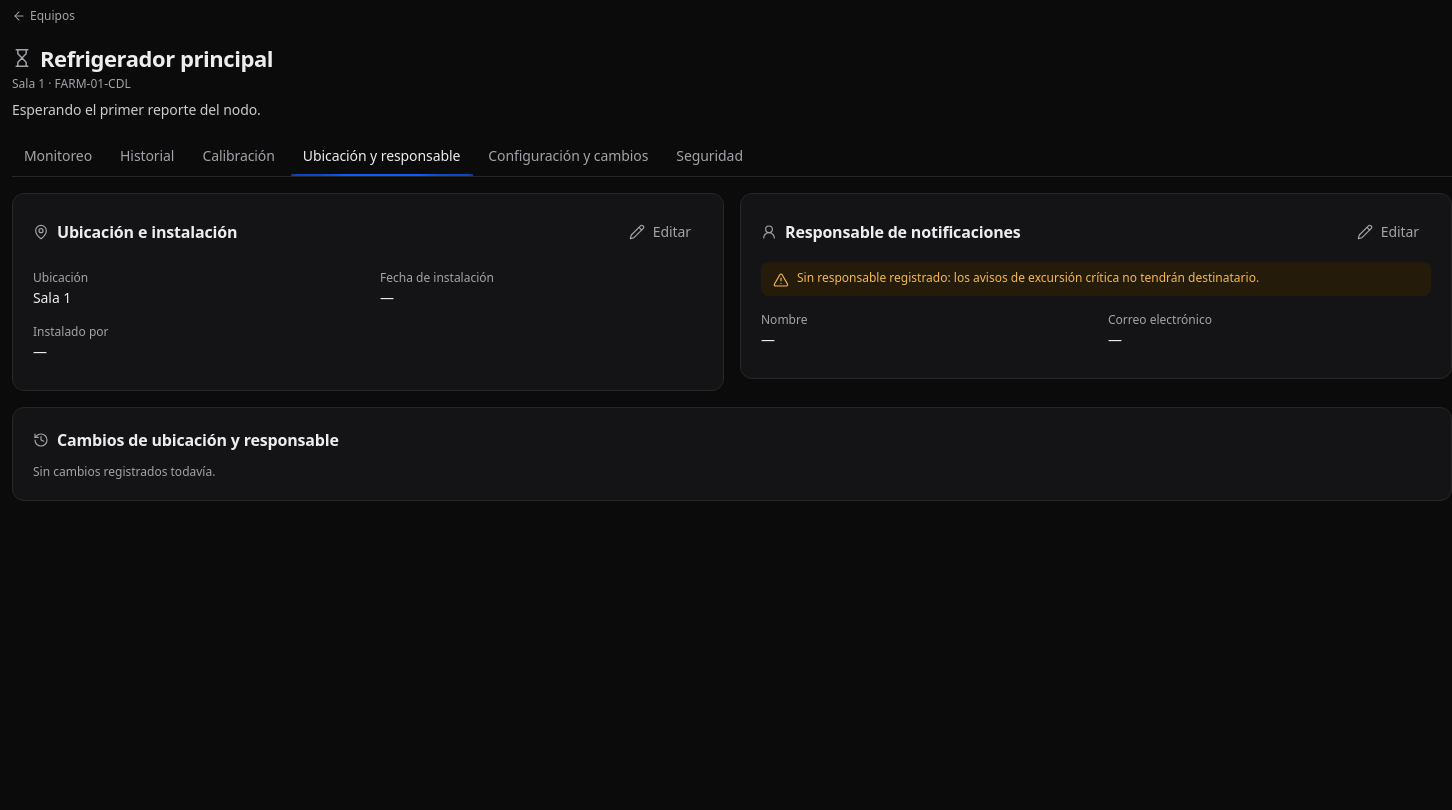
Test: Detalle de dispositivo (pestañas) › HU-51: editar ubicación guarda y anuncia el resultado
Click the button with aria-label "Editar ubicación de FARM-01-CDL". click: [660, 232]
box: [617,214,703,250]
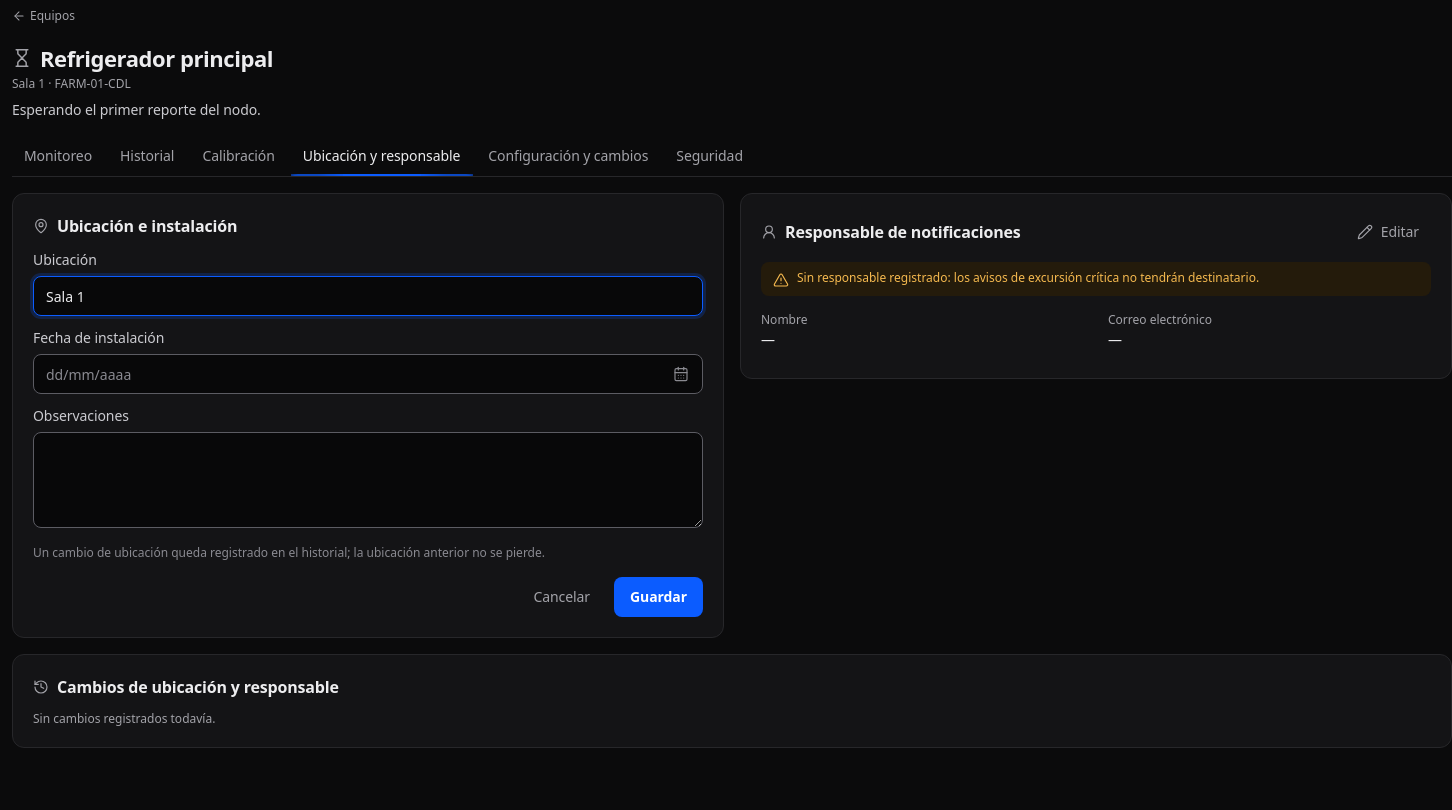
Replace the text in the field labelled "Ubicación" with "Almacén QA". click: [368, 296]
box: [33,276,703,316]
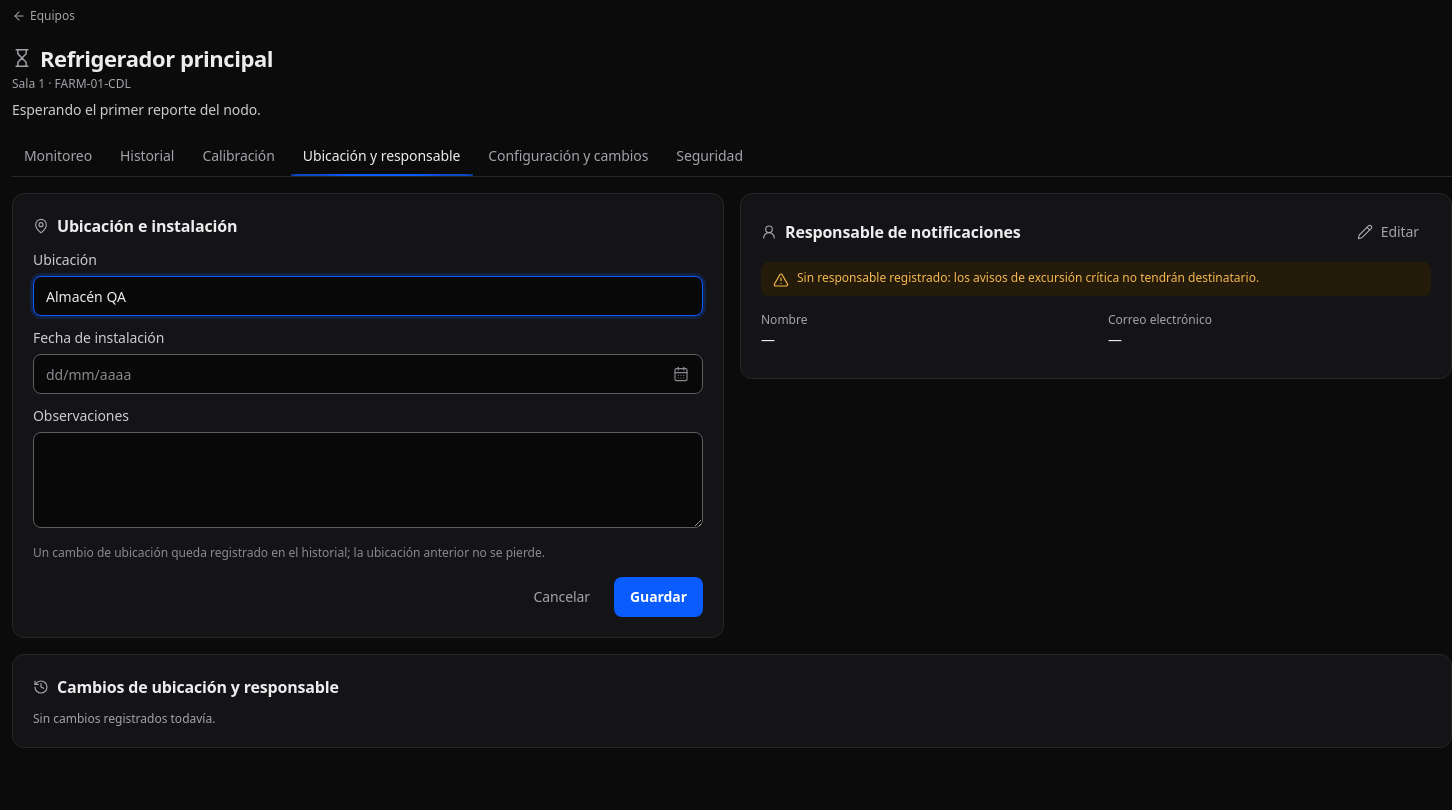
Click the button "Guardar". click: [658, 597]
box: [614,577,703,617]
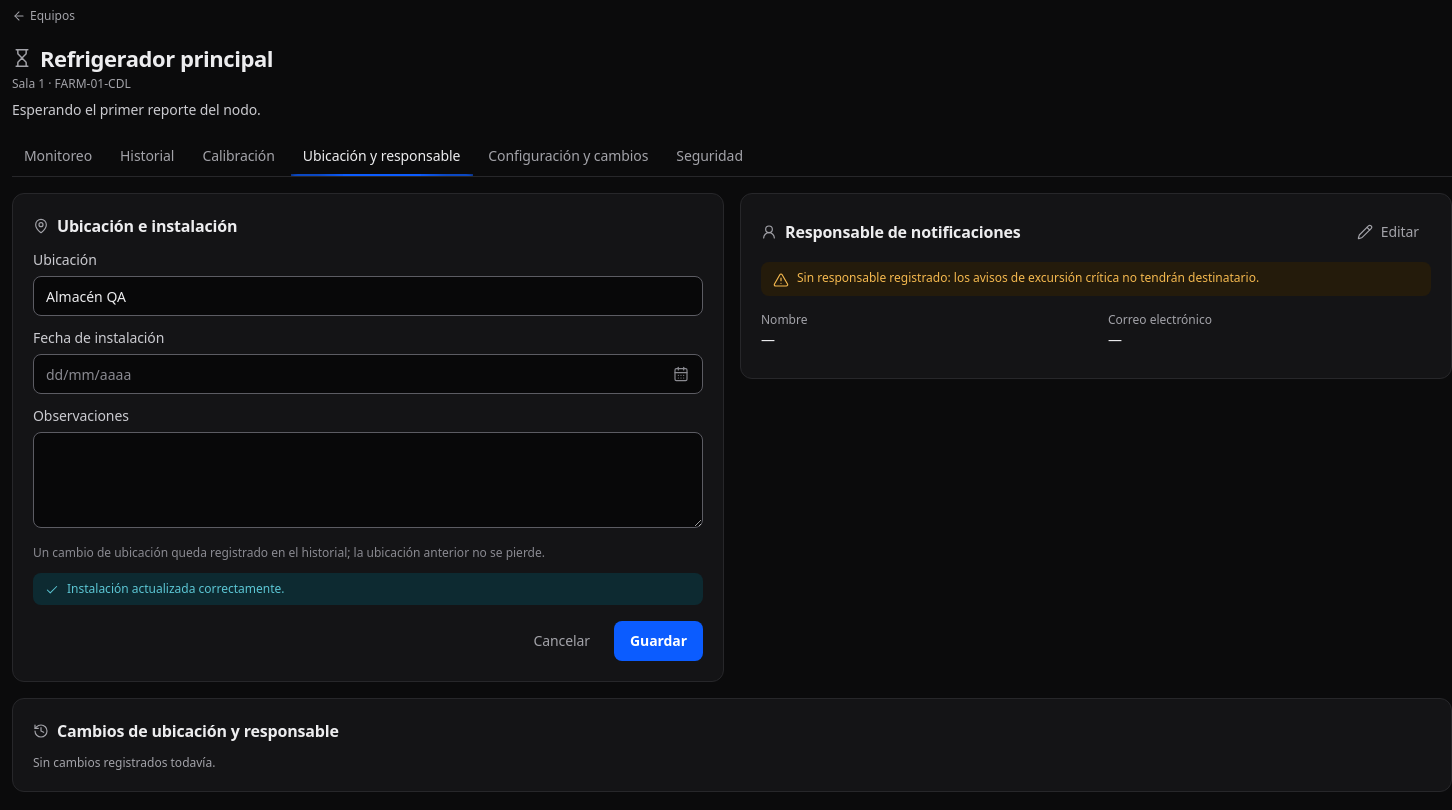
Now the message reads "Instalación actualizada correctamente.", box [67,580,285,597]
